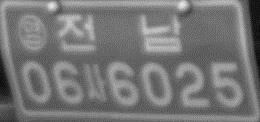0: (141, 61, 173, 106), (21, 60, 52, 104)
2: (174, 60, 209, 107)
5: (210, 61, 244, 108)
6: (108, 61, 141, 105), (53, 60, 83, 103)
사: (83, 62, 107, 102)
영: (16, 13, 49, 51)
전남_D: (55, 12, 183, 54)
